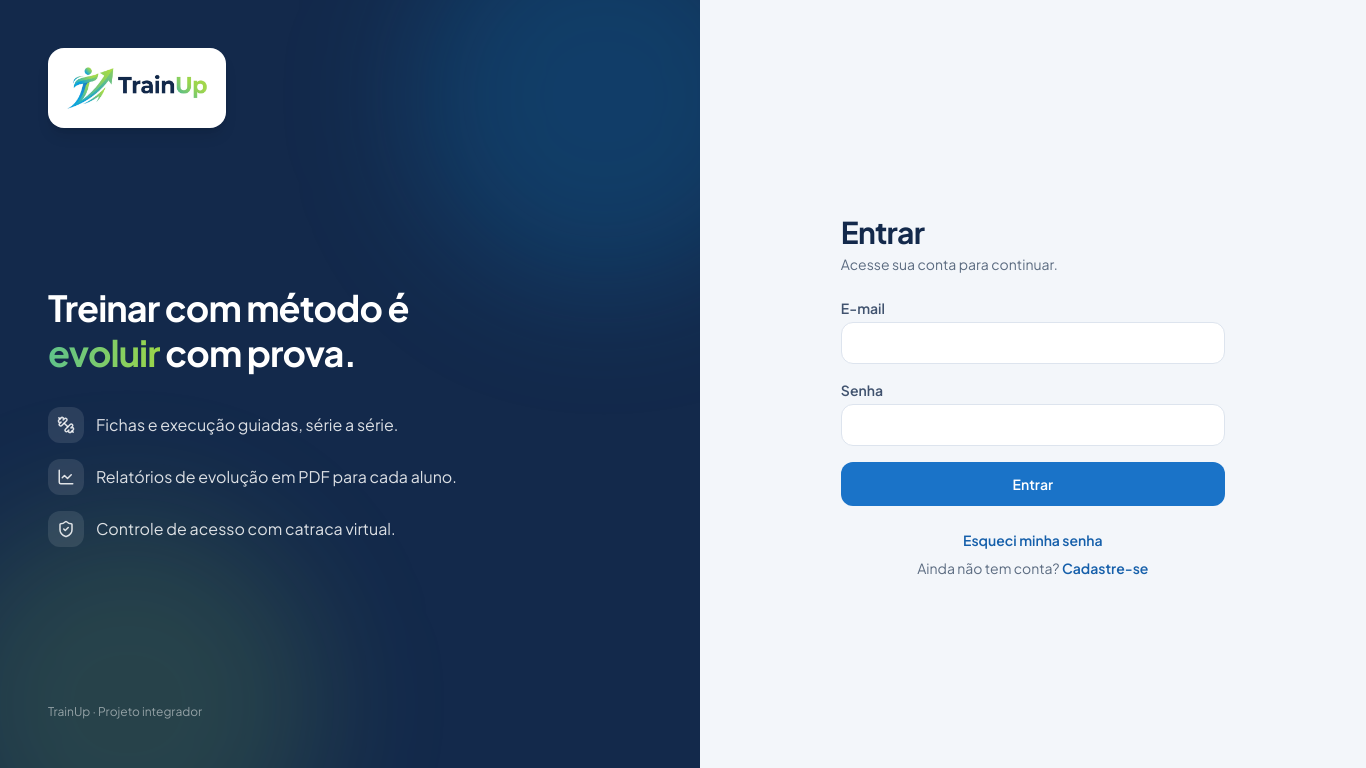
Test: Login › mostra a mensagem do servidor quando a senha está errada (CT045)
Step 1. Type "ana@trainup.com" into the field labelled "E-mail" → (1033, 343), box [841, 322, 1225, 364]
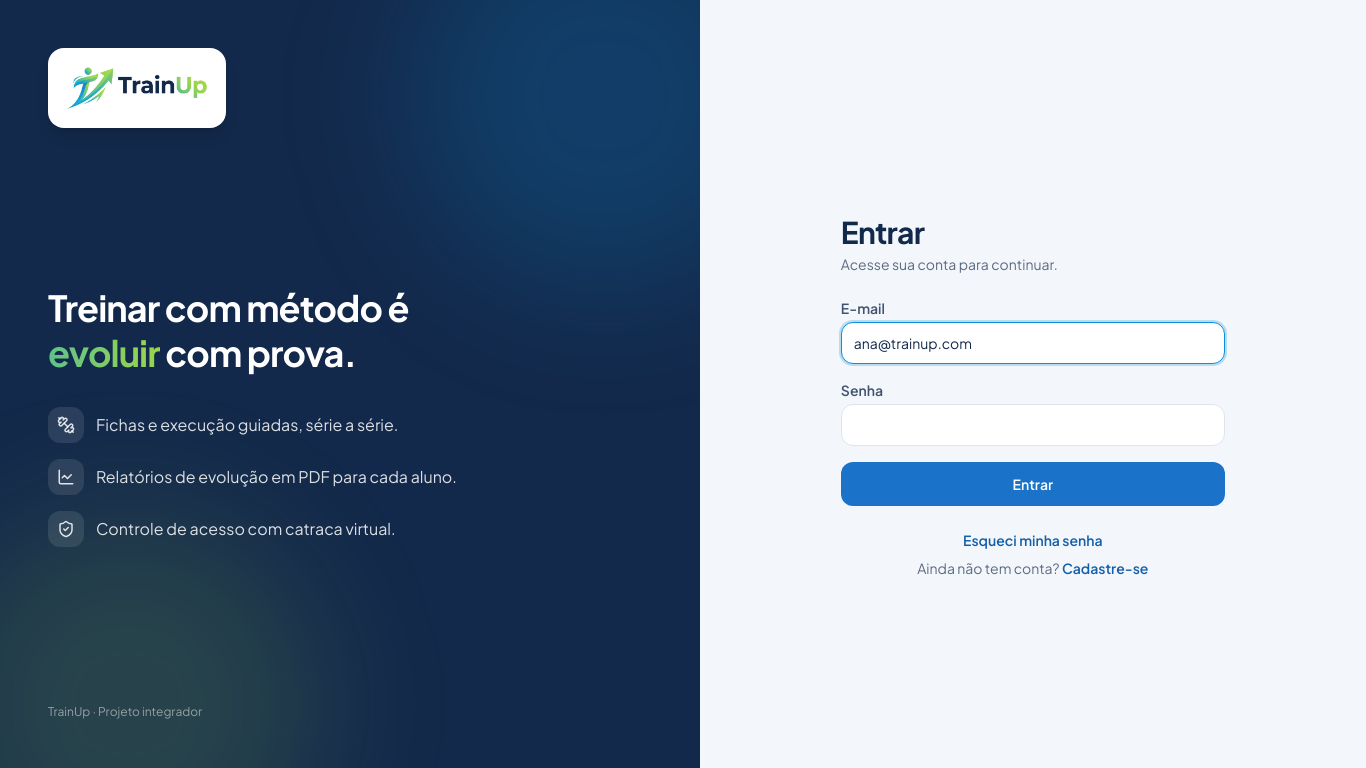
Step 2. Type "errada123" into the password field labelled "Senha" → (1033, 425), box [841, 404, 1225, 446]
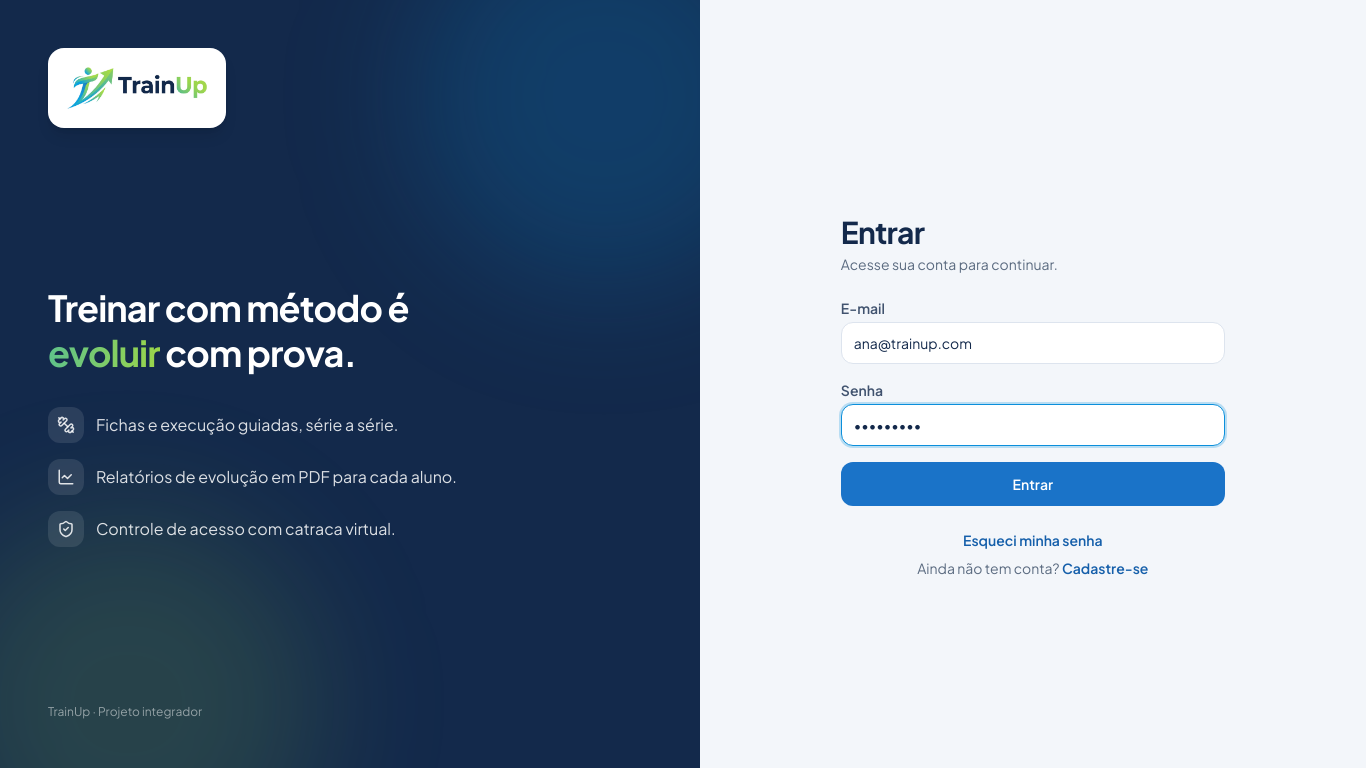
Step 3. Click the button "Entrar" → (1033, 484), box [841, 462, 1225, 506]
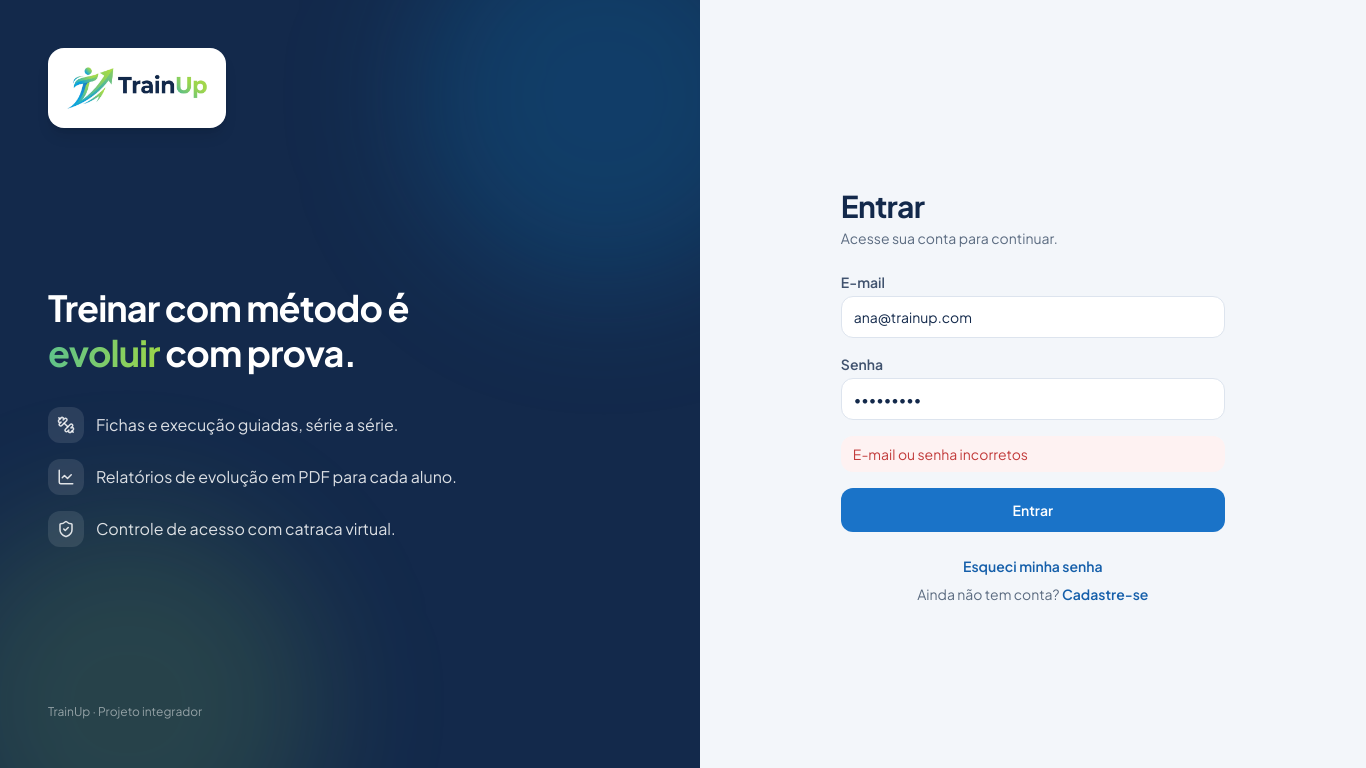
Check: the text "E-mail ou senha incorretos" is shown, box [841, 436, 1225, 472]
